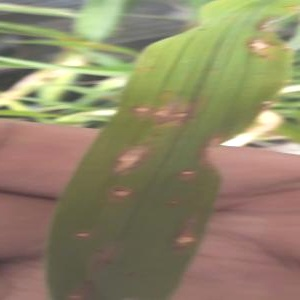Brown_Spot: (108, 134, 155, 179), (151, 97, 200, 131), (238, 30, 274, 64), (173, 224, 204, 253), (100, 183, 135, 204), (67, 223, 97, 246), (129, 92, 149, 124), (174, 163, 204, 182)
